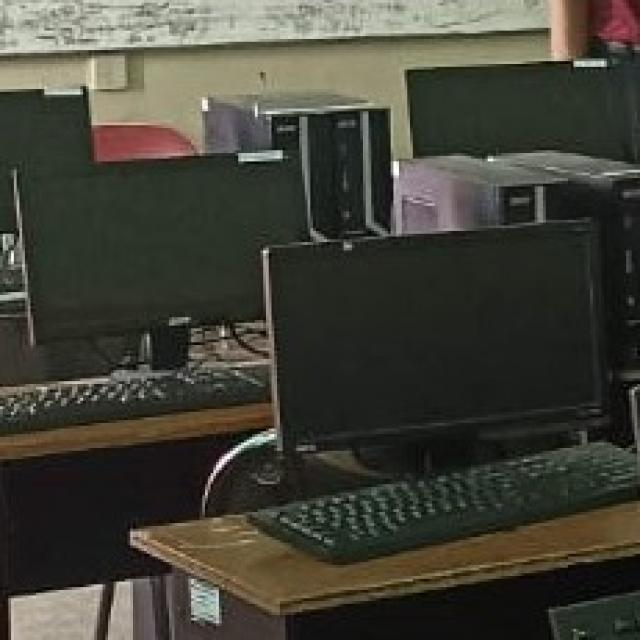offscreen: (266, 225, 598, 451), (19, 156, 307, 343), (407, 67, 630, 159), (0, 94, 90, 174)
